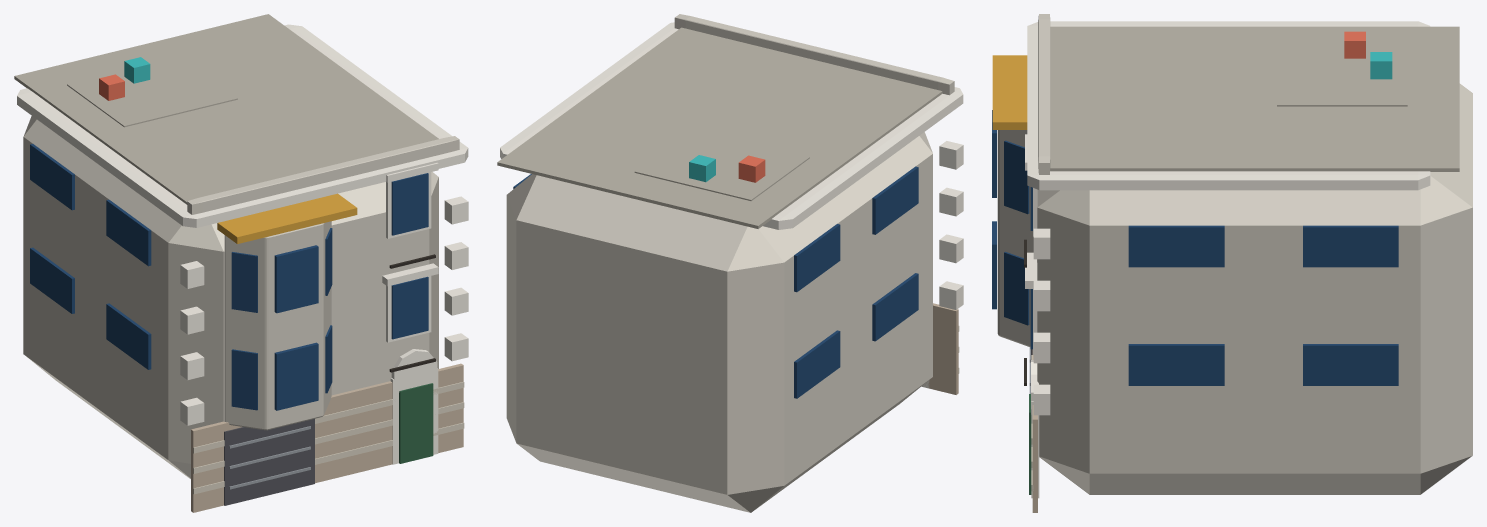
The model's file is marina_w9_flat.glb.
The picture shows the model from 3 angles, left to right: view 1: azimuth 30°, elevation 25°; view 2: azimuth 150°, elevation 25°; view 3: azimuth 270°, elevation 25°; orthographic projection. The views are drawn at different scales.
Parts seen in each view (by area): view 1: walls, roofslab, bay, corn, base, deckf, gdoor, parapet, scallop, bw.001, bw, edoor (+26 smaller); view 2: walls, roofslab, corn, deckf, parapet, base, sb, sb.002, sb.004, sb.006, chair, quoin.001 (+4 smaller); view 3: walls, roofslab, corn, deckf, sb.005, sb.007, sb.001, sb.003, bay, scallop, parapet, bwa.003 (+8 smaller).
Part boxes in pixels (bbox=[...]): walls: bbox=[23, 116, 438, 478]; roofslab: bbox=[14, 14, 438, 204]; bay: bbox=[224, 221, 331, 430]; corn: bbox=[17, 24, 468, 227]; base: bbox=[191, 363, 463, 512]; deckf: bbox=[67, 56, 237, 127]; gdoor: bbox=[224, 419, 314, 505]; parapet: bbox=[187, 136, 459, 214]; scallop: bbox=[217, 193, 357, 243]; bw.001: bbox=[274, 245, 318, 313]; bw: bbox=[274, 342, 318, 410]; edoor: bbox=[399, 383, 433, 463]; walls: bbox=[506, 132, 932, 512]; roofslab: bbox=[497, 27, 942, 228]; corn: bbox=[500, 22, 963, 229]; deckf: bbox=[634, 128, 809, 200]; parapet: bbox=[674, 14, 954, 95]; base: bbox=[925, 303, 958, 394]; sb: bbox=[872, 273, 918, 341]; sb.002: bbox=[794, 330, 840, 398]; sb.004: bbox=[872, 166, 918, 234]; sb.006: bbox=[794, 224, 840, 292]; chair: bbox=[738, 155, 765, 182]; quoin.001: bbox=[939, 234, 963, 263]; walls: bbox=[1037, 83, 1472, 494]; roofslab: bbox=[1050, 26, 1459, 171]; corn: bbox=[1027, 21, 1430, 190]; deckf: bbox=[1277, 42, 1407, 106]; sb.005: bbox=[1128, 225, 1224, 267]; sb.007: bbox=[1303, 225, 1398, 267]; sb.001: bbox=[1128, 344, 1224, 385]; sb.003: bbox=[1303, 344, 1398, 385]; bay: bbox=[997, 130, 1037, 347]; scallop: bbox=[992, 55, 1027, 129]; parapet: bbox=[1038, 14, 1050, 174]; bwa.003: bbox=[1004, 140, 1029, 214].
Size of the model in its own units: 9.5 by 10.02 by 12.14.
